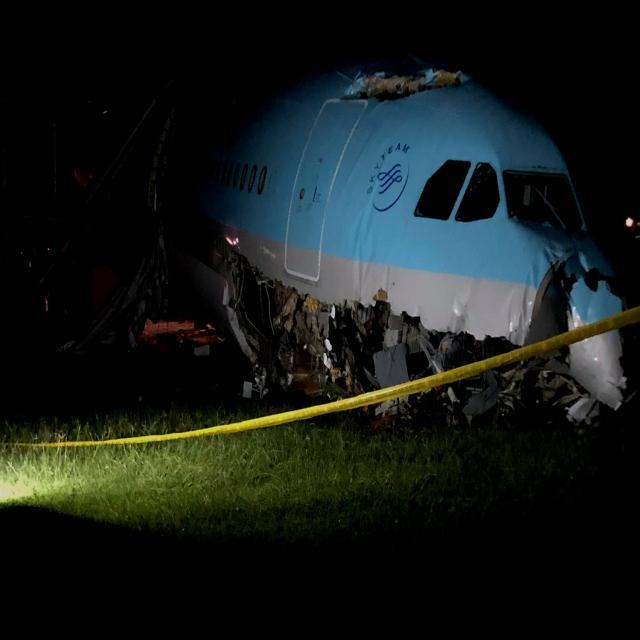crack: (343, 67, 470, 112)
